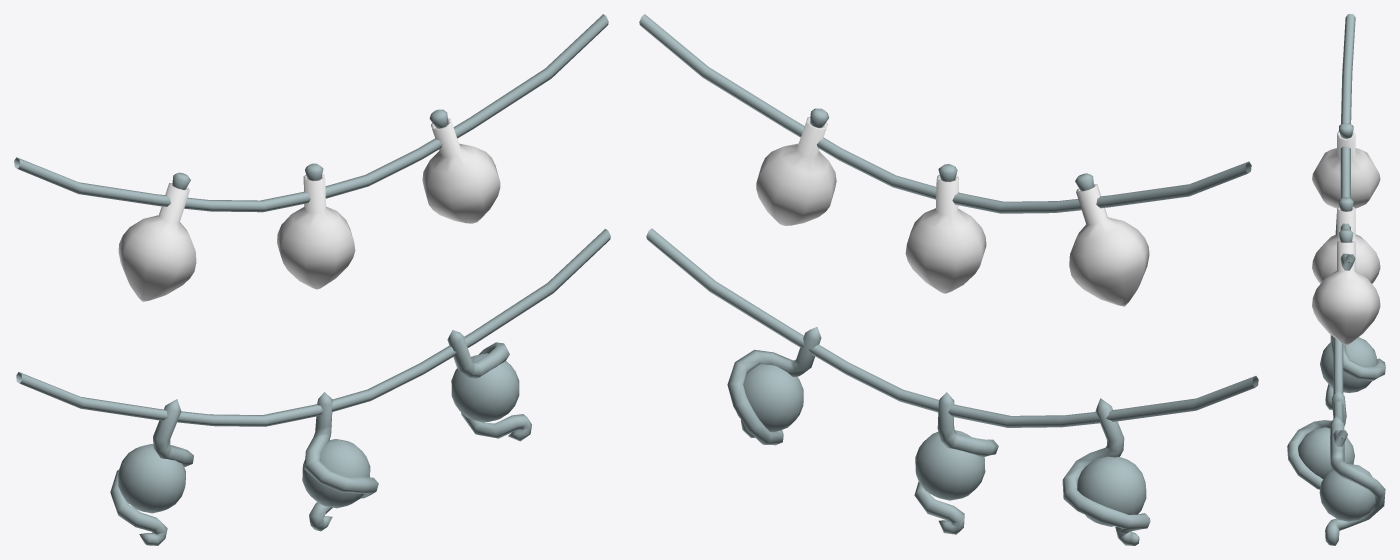
File: market lantern garlands.fbx
3 views of the same model, side by side, from view 1: azimuth 30°, elevation 25°; view 2: azimuth 150°, elevation 25°; view 3: azimuth 270°, elevation 25° (orthographic). The views are drawn at different scales.
Parts seen in each view (by area): view 1: aquatic lantern garland, land lantern garland; view 2: land lantern garland, aquatic lantern garland; view 3: aquatic lantern garland, land lantern garland.
Boxes of the visible parts, x1=… form: aquatic lantern garland: x1=14, y1=14, x2=608, y2=301; land lantern garland: x1=16, y1=229, x2=610, y2=545; land lantern garland: x1=646, y1=228, x2=1258, y2=545; aquatic lantern garland: x1=639, y1=14, x2=1251, y2=306; aquatic lantern garland: x1=1312, y1=14, x2=1380, y2=345; land lantern garland: x1=1287, y1=214, x2=1385, y2=545.
Size of the model in its own units: 438 by 309 by 75.35.
